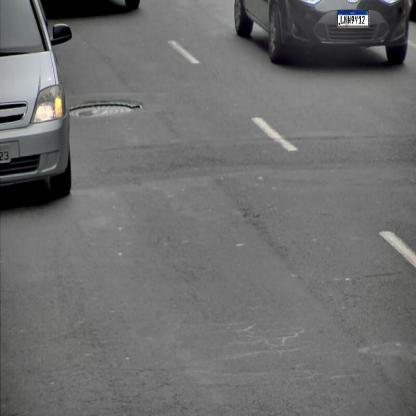PlacaM: (338, 10, 368, 26)
